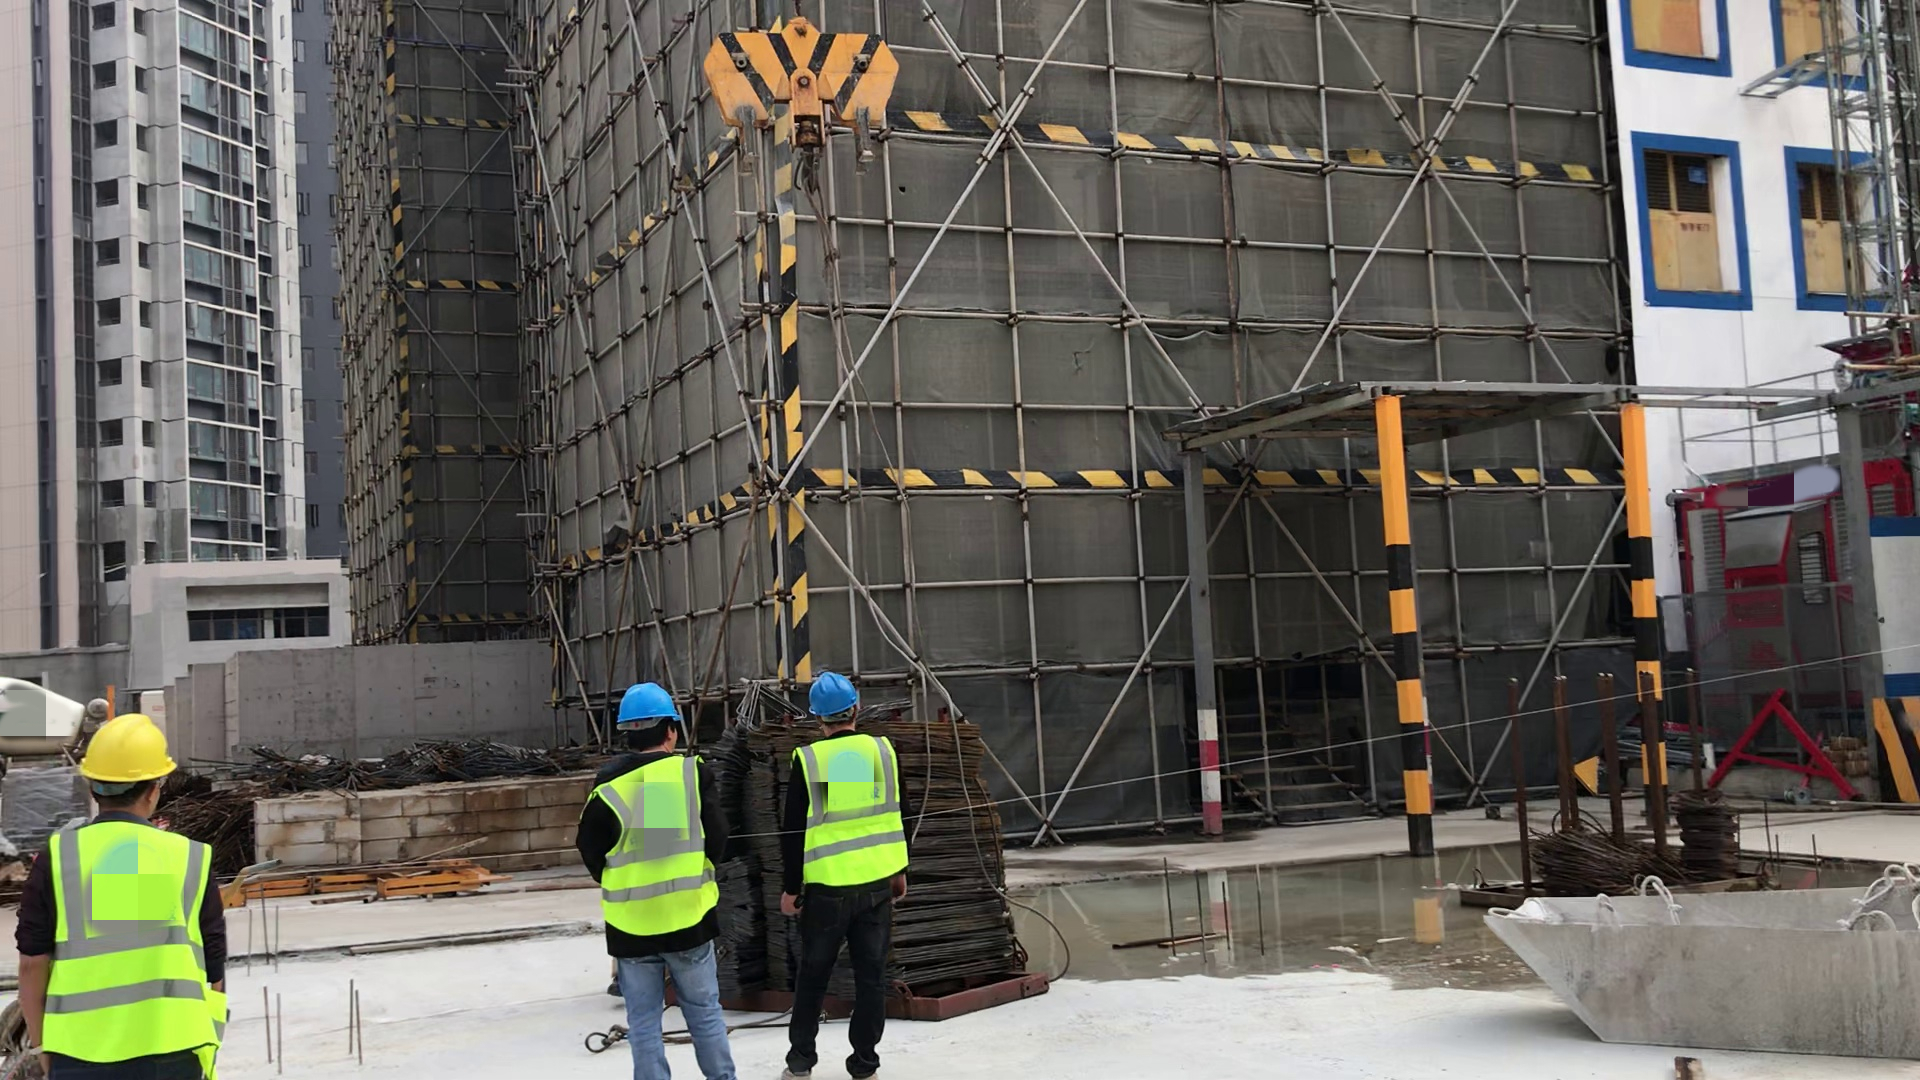helmet: (75, 716, 181, 785), (616, 684, 678, 723), (809, 673, 861, 714)
hook: (705, 12, 902, 192)
hopper: (1490, 883, 1920, 1074)
person: (9, 715, 219, 1080), (575, 683, 733, 1080), (777, 673, 909, 1080)
rebar: (894, 727, 1017, 995)
vest: (38, 819, 216, 1060), (595, 754, 718, 934), (792, 731, 910, 887)
